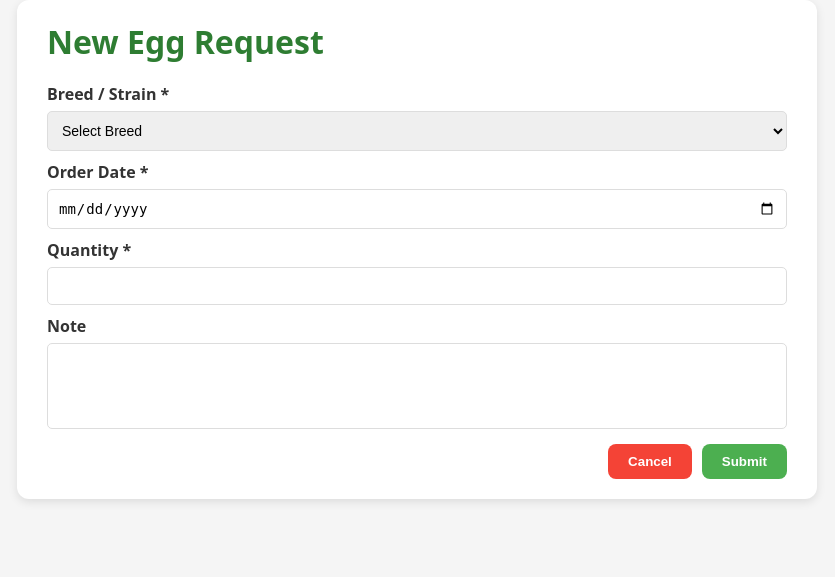
Scenario: MakeRequest Component › shows validation errors
Expected: the heading "New Egg Request" is shown, [47,20,324,63]
What coordinates should you click on to do the following:
click the button "Submit"
I would click on:
 (744, 462)
Its box is [702,444,787,479].
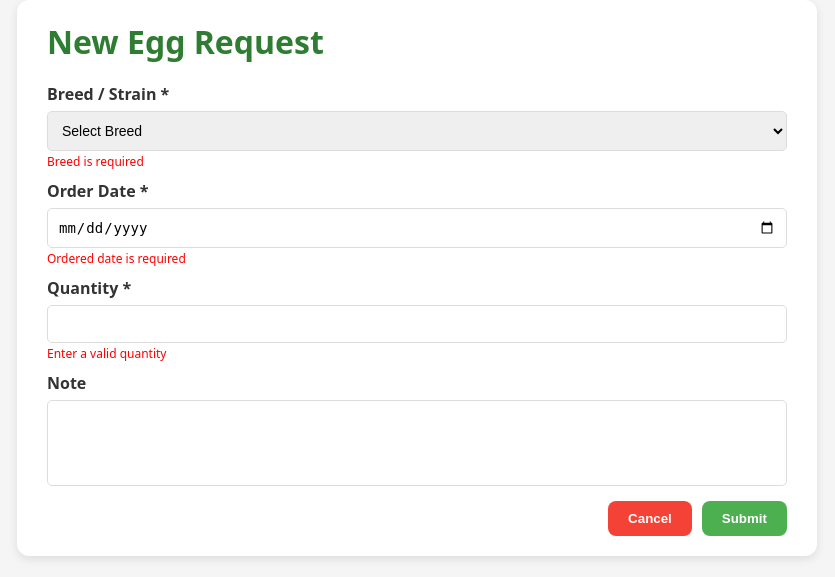
Expected: the text "Breed is required" is shown, [47,153,144,170]
Expected: the text "Ordered date is required" is shown, [47,250,186,267]
Expected: the text "Enter a valid quantity" is shown, [47,345,166,362]
